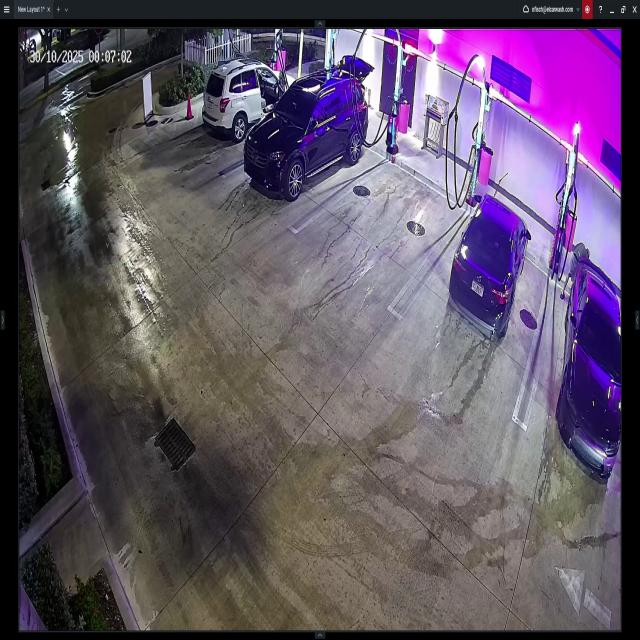Car: (244, 54, 371, 202), (557, 255, 623, 483), (449, 197, 529, 341), (203, 58, 297, 143)
